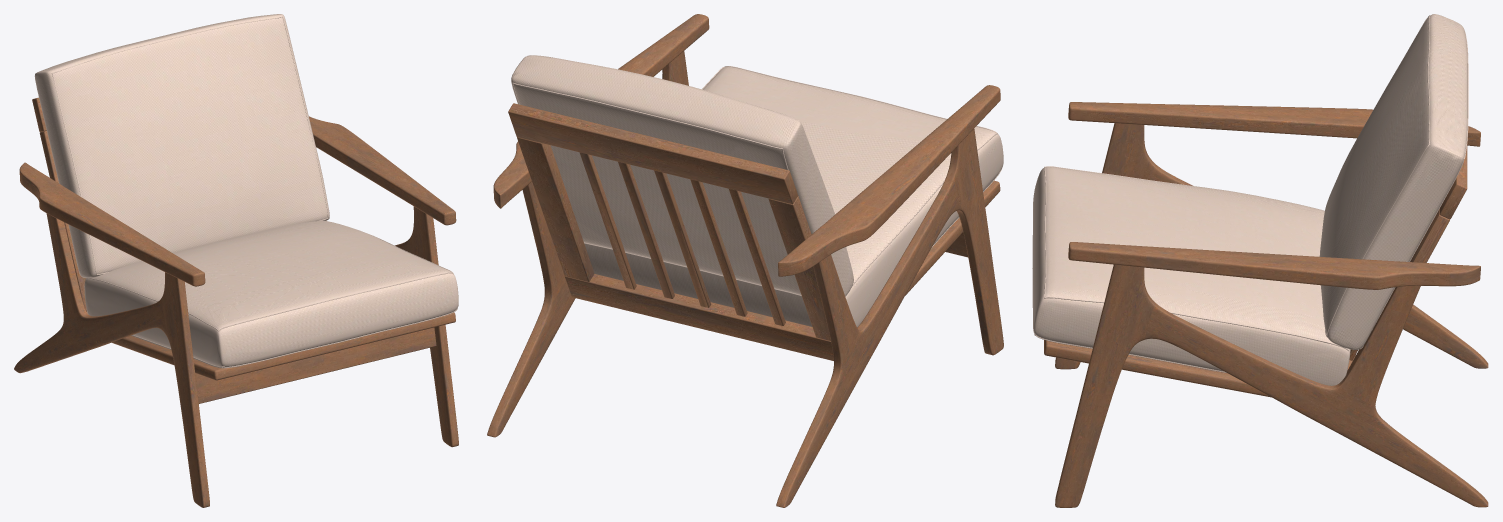
The model's file is chair.glb.
3 views of the same model, side by side, from view 1: azimuth 30°, elevation 25°; view 2: azimuth 150°, elevation 25°; view 3: azimuth 270°, elevation 25° (orthographic). The views are drawn at different scales.
Parts seen in each view (by area): view 1: Cube.001; view 2: Cube.001; view 3: Cube.001.
Part boxes in pixels (x1,y1,x2,y2): Cube.001: [14, 14, 458, 507]; Cube.001: [487, 14, 1003, 507]; Cube.001: [1032, 14, 1488, 507].
Bounding box in the file's own units: 0.774 × 0.7841 × 0.8878.
Materials: 2 (2 with a texture image).
